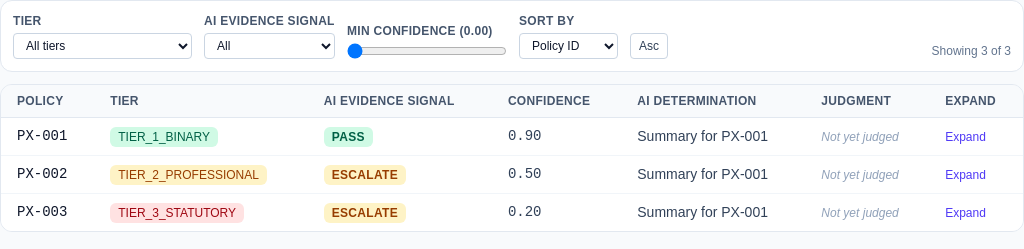
Test case: PerPolicyResultsTable filtering › narrows displayed rows when tier filter is applied
Select "TIER_2_PROFESSIONAL" in the dropdown with test id "filter-tier" at (102, 46), box [13,33,192,59]
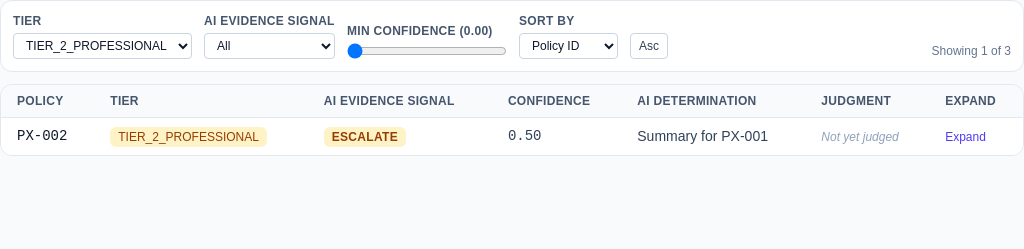
Check: the number of rows with test id "per-policy-row" is 1, box [1,118,1023,155]
Check: the text with test id "results-count" reads "Showing 1 of 3", box [932,43,1011,59]
